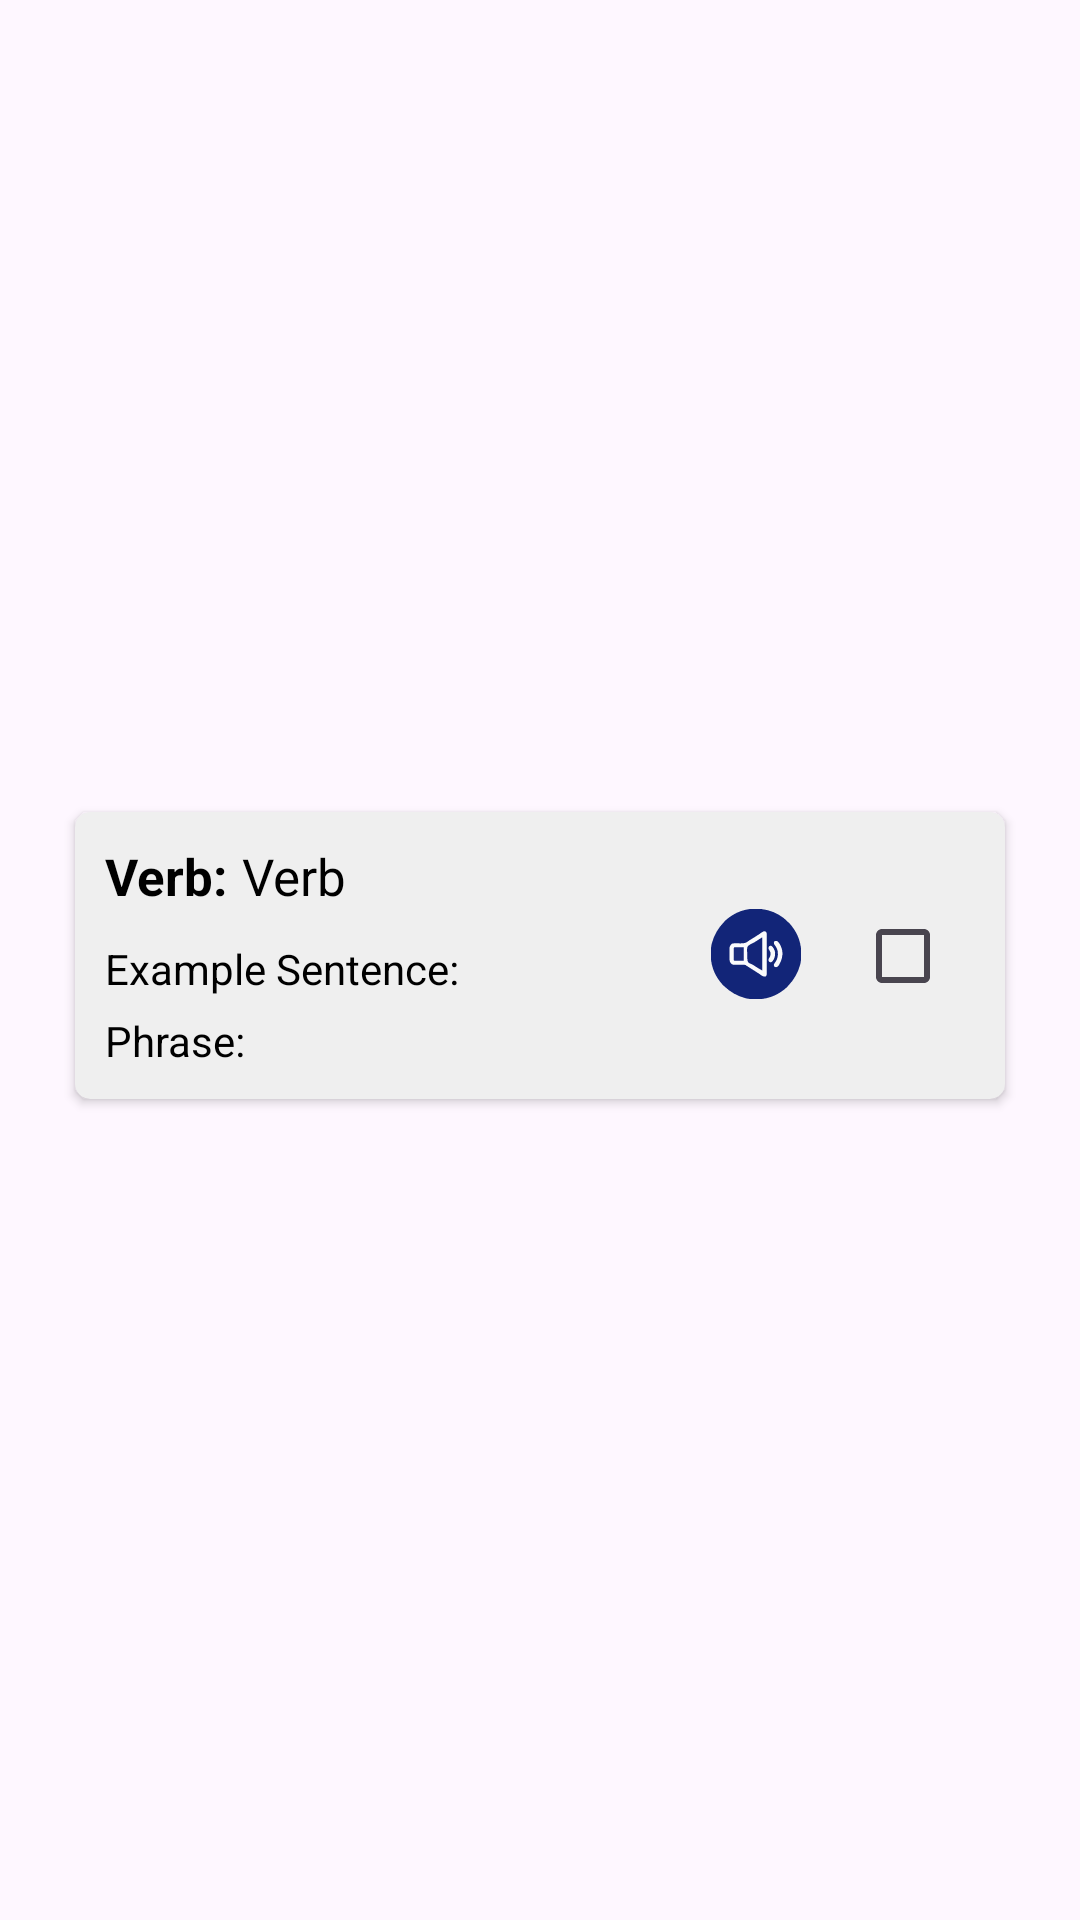

Screen size 1080px×1920px. Icon name, then its center in pixels as point (x, y):
Play Audio Button: point (756, 954)
